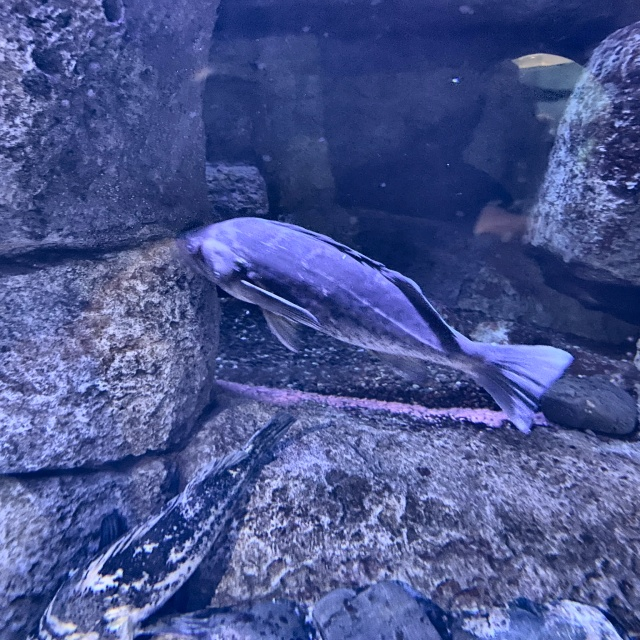fish: (175, 217, 572, 436), (38, 411, 295, 639)
